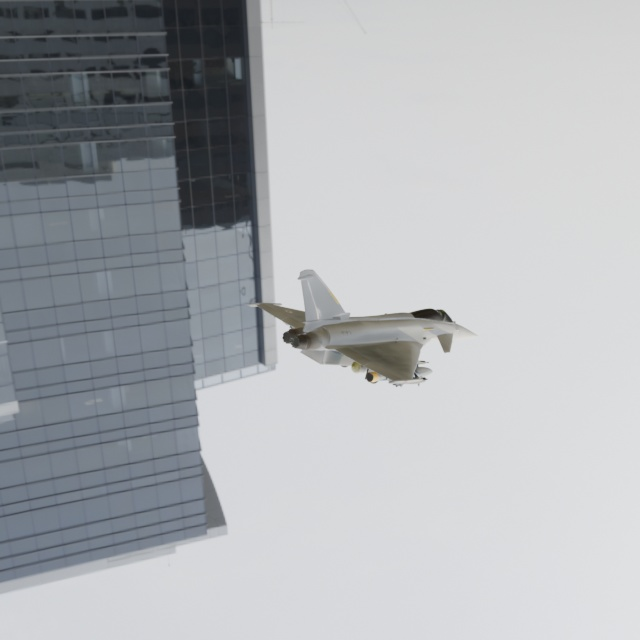eurofighter_typhoon_3d: (206, 235, 572, 431)
